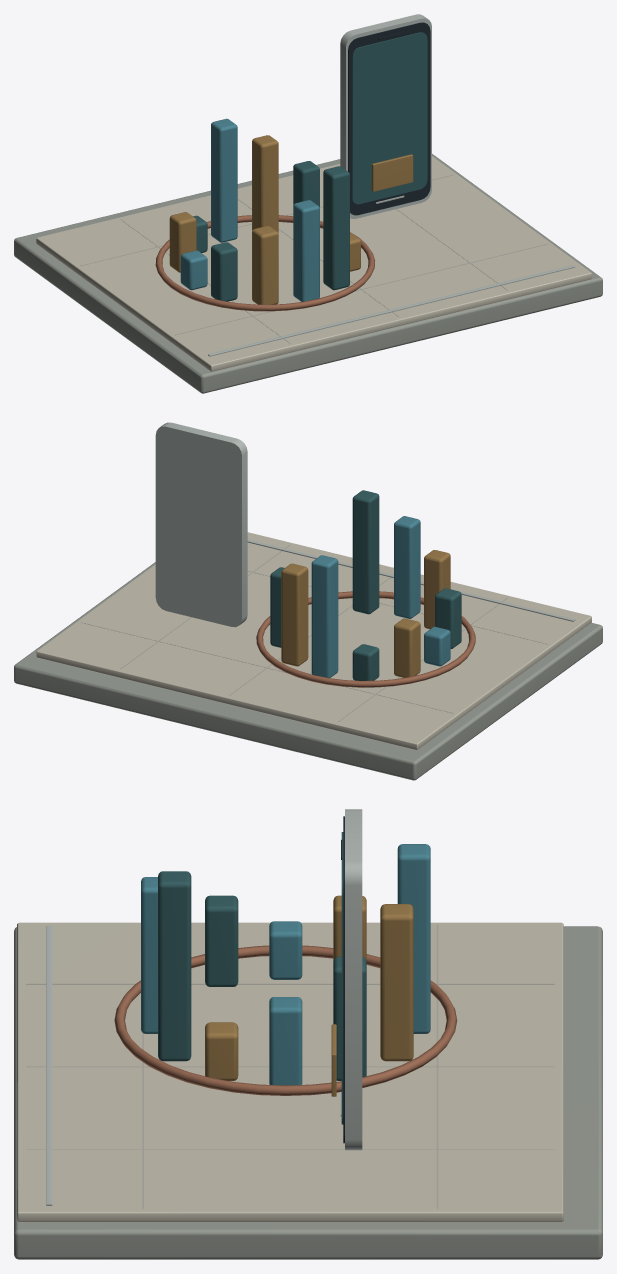
File: idea-c708d384.glb
3 renders of one model, top to bottom at view 1: azimuth 30°, elevation 25°; view 2: azimuth 150°, elevation 25°; view 3: azimuth 270°, elevation 25°, orthographic. The views are drawn at different scales.
Parts seen in each view (by area): view 1: Bong-shot Data Tracker; view 2: Bong-shot Data Tracker; view 3: Bong-shot Data Tracker.
Part boxes in pixels (x1=…): Bong-shot Data Tracker: x1=14, y1=14, x2=602, y2=393; Bong-shot Data Tracker: x1=14, y1=422, x2=602, y2=780; Bong-shot Data Tracker: x1=14, y1=809, x2=602, y2=1259.
Size of the model in its own units: 4.8 by 2.5 by 3.9.
